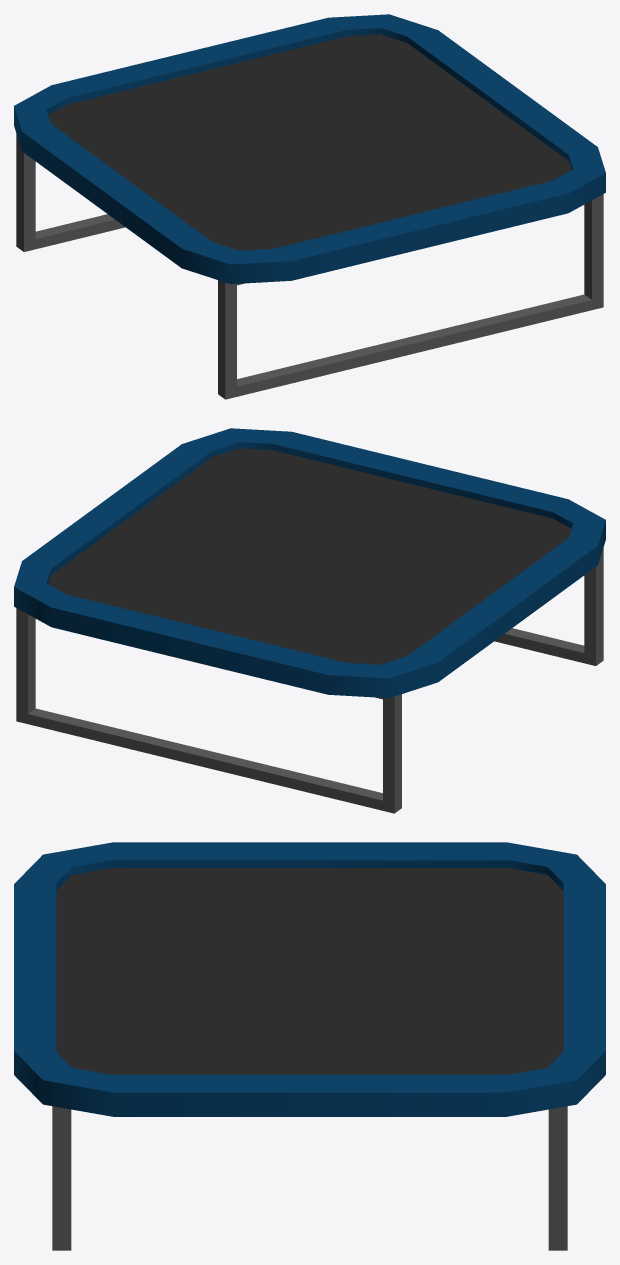
File: Trampoline.glb
The picture shows the model from 3 angles, top to bottom: view 1: azimuth 30°, elevation 25°; view 2: azimuth 150°, elevation 25°; view 3: azimuth 270°, elevation 25°; orthographic projection. The views are drawn at different scales.
Visible parts, largest first — view 1: Trampoline; view 2: Trampoline; view 3: Trampoline.
Part boxes in pixels (x1=…): Trampoline: x1=14, y1=14, x2=605, y2=399; Trampoline: x1=14, y1=428, x2=605, y2=813; Trampoline: x1=14, y1=842, x2=605, y2=1250.
Size of what is drawn, in the model's own units: 3.46 by 1.09 by 3.46.
Materials: 1 (1 with a texture image).
